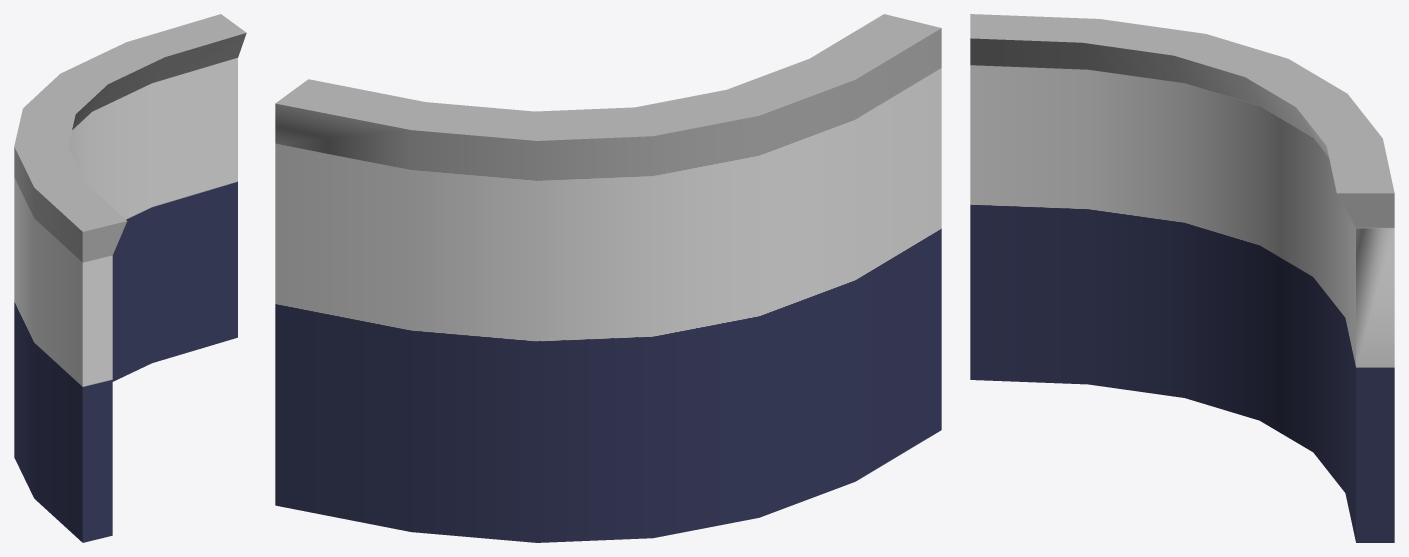
Rendered from CurvedWall.fbx.
3 renders of one model, left to right at view 1: azimuth 30°, elevation 25°; view 2: azimuth 150°, elevation 25°; view 3: azimuth 270°, elevation 25°, orthographic. The views are drawn at different scales.
Parts seen in each view (by area): view 1: Curve_Wall_002; view 2: Curve_Wall_002; view 3: Curve_Wall_002.
Boxes of the visible parts, x1,y1,x2,y2 form: Curve_Wall_002: (14, 14, 246, 542); Curve_Wall_002: (275, 14, 941, 542); Curve_Wall_002: (970, 14, 1394, 542).
Bounding box in the file's own units: 86.61 × 78.74 × 86.61.
1 material, 1 textured.
